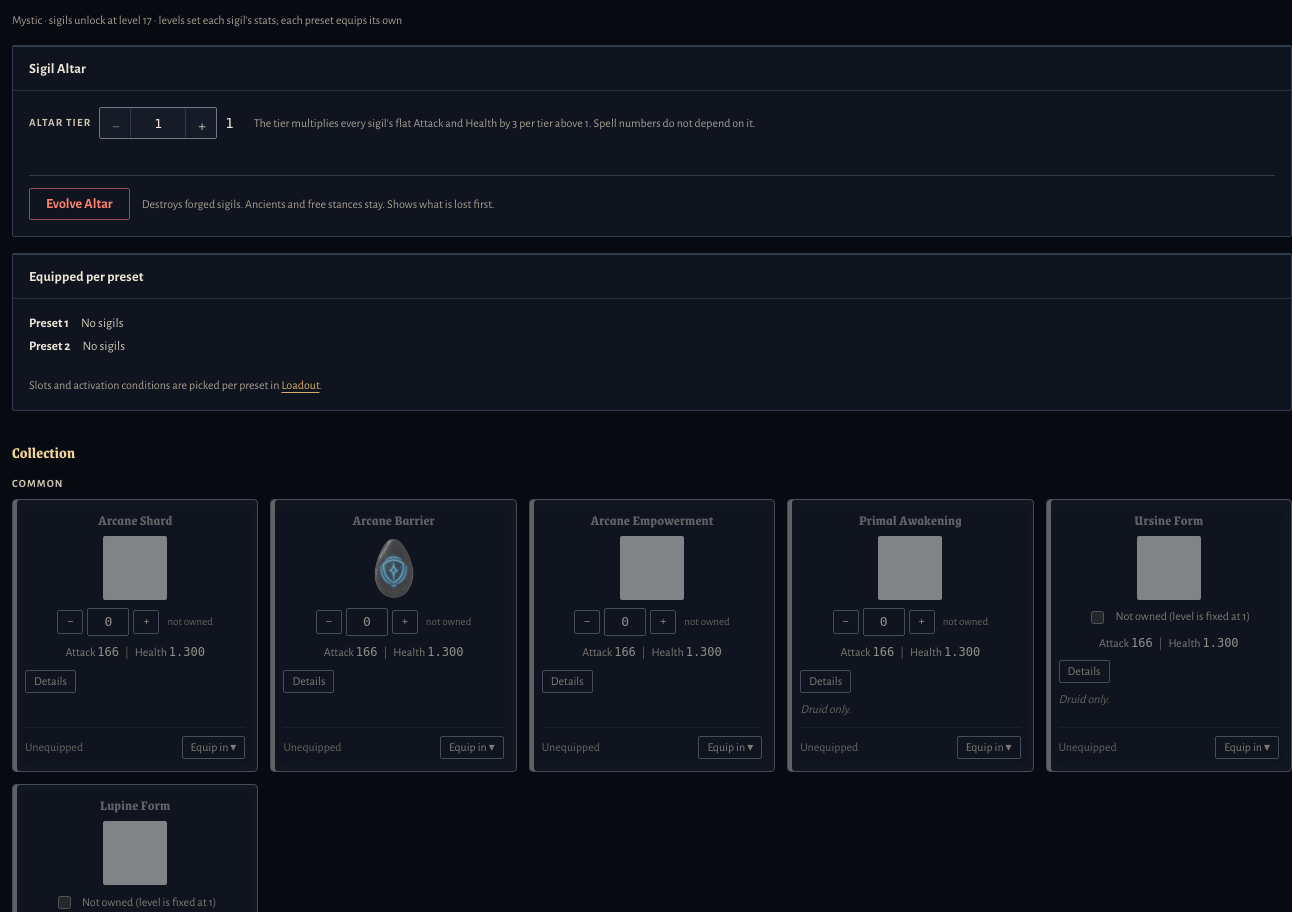
it: other classes › Form sigils are level-locked: an owned toggle, no level field, stored at level 1
Check: the element with class "sigil-card" that starts with "Ursine Form" is shown, box x1=1046 y1=498 x2=1291 y2=772
Click the checkbox labelled "Not owned (level is fixed at 1)" below "Ursine Form".
click(1098, 617)  # box x1=1092 y1=611 x2=1104 y2=624
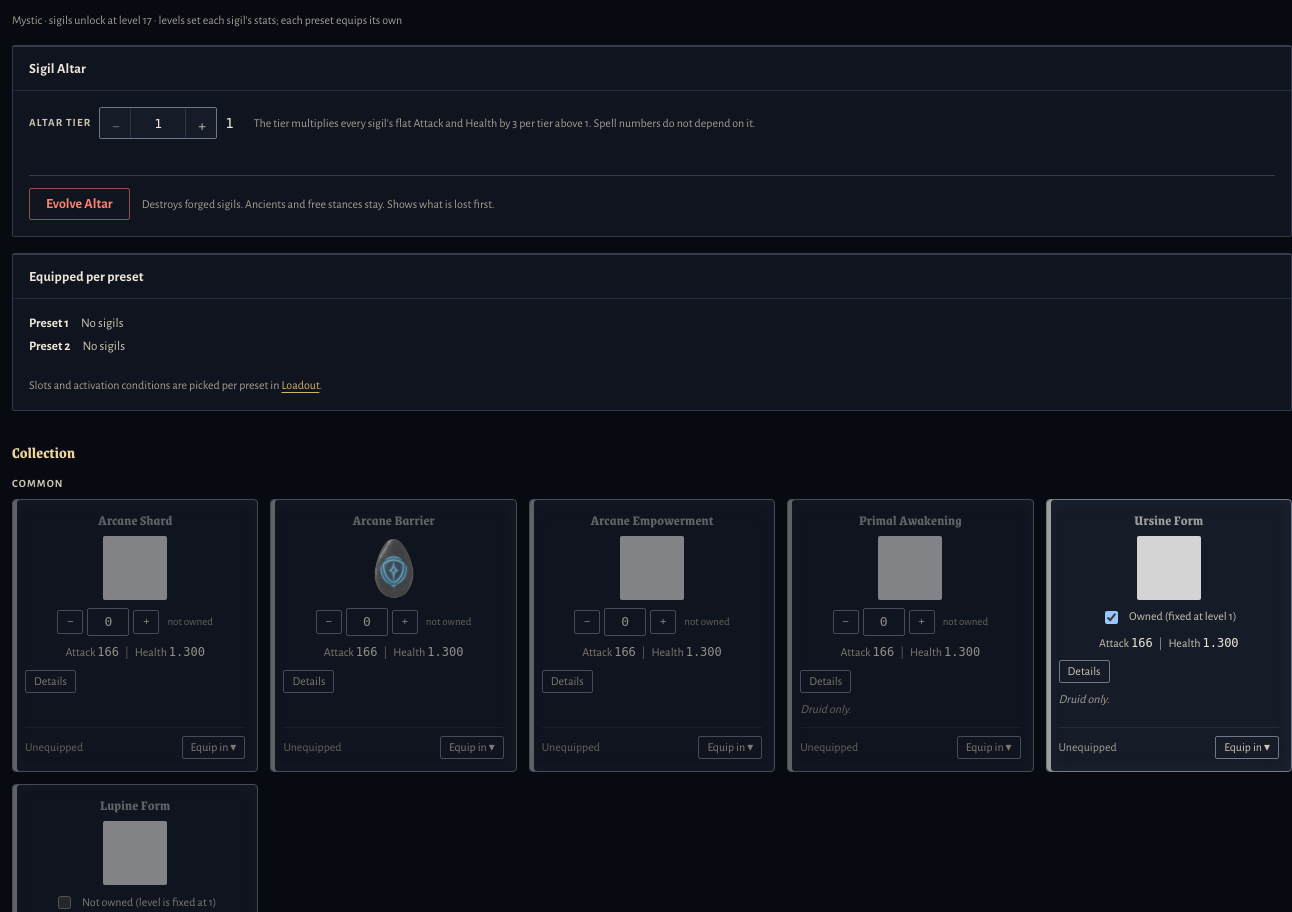
Check: the element with class "sigil-card" shows "fixed at level 1", box x1=1129 y1=610 x2=1236 y2=622
